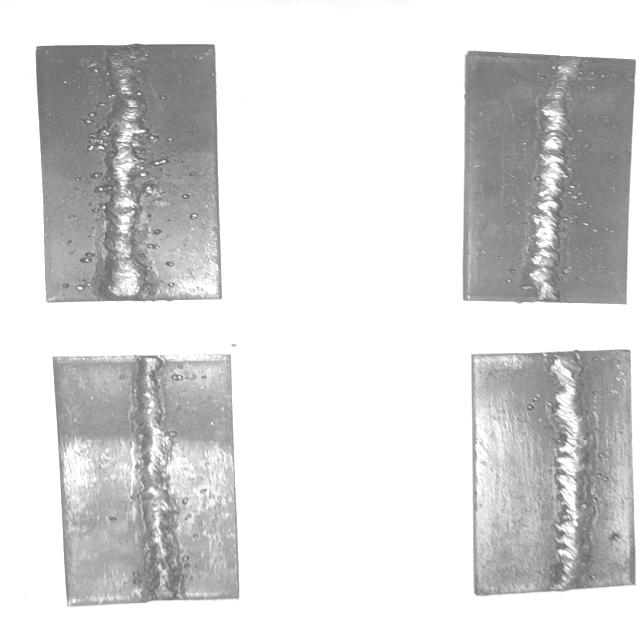Bad Weld: (100, 50, 141, 299)
Defect: (136, 132, 171, 176), (80, 118, 119, 156), (90, 172, 116, 198)
Good Weld: (540, 355, 590, 584), (132, 357, 176, 594), (534, 58, 573, 299)
